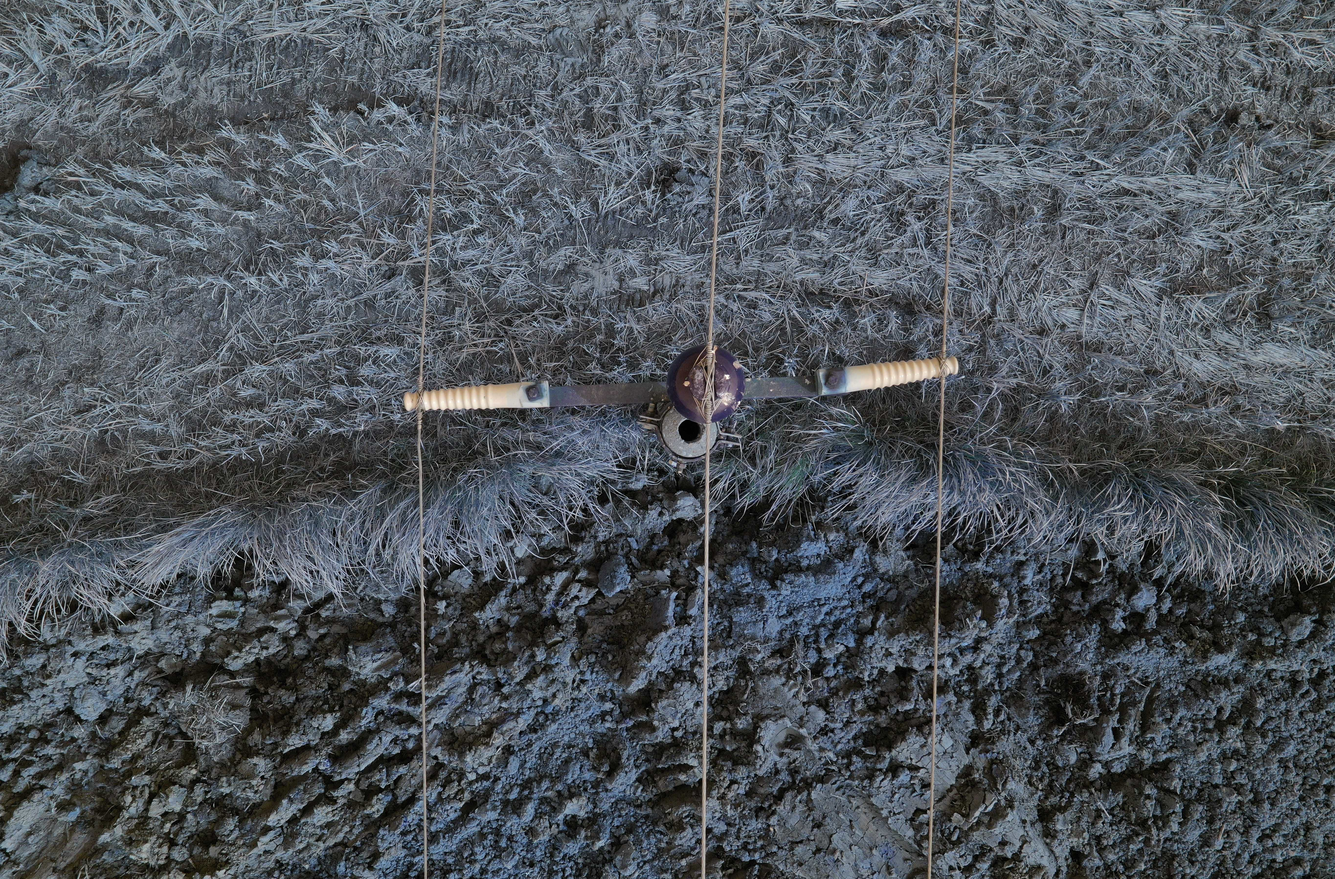severe_soiling_no_discharge_whole: (664, 346, 749, 424)
